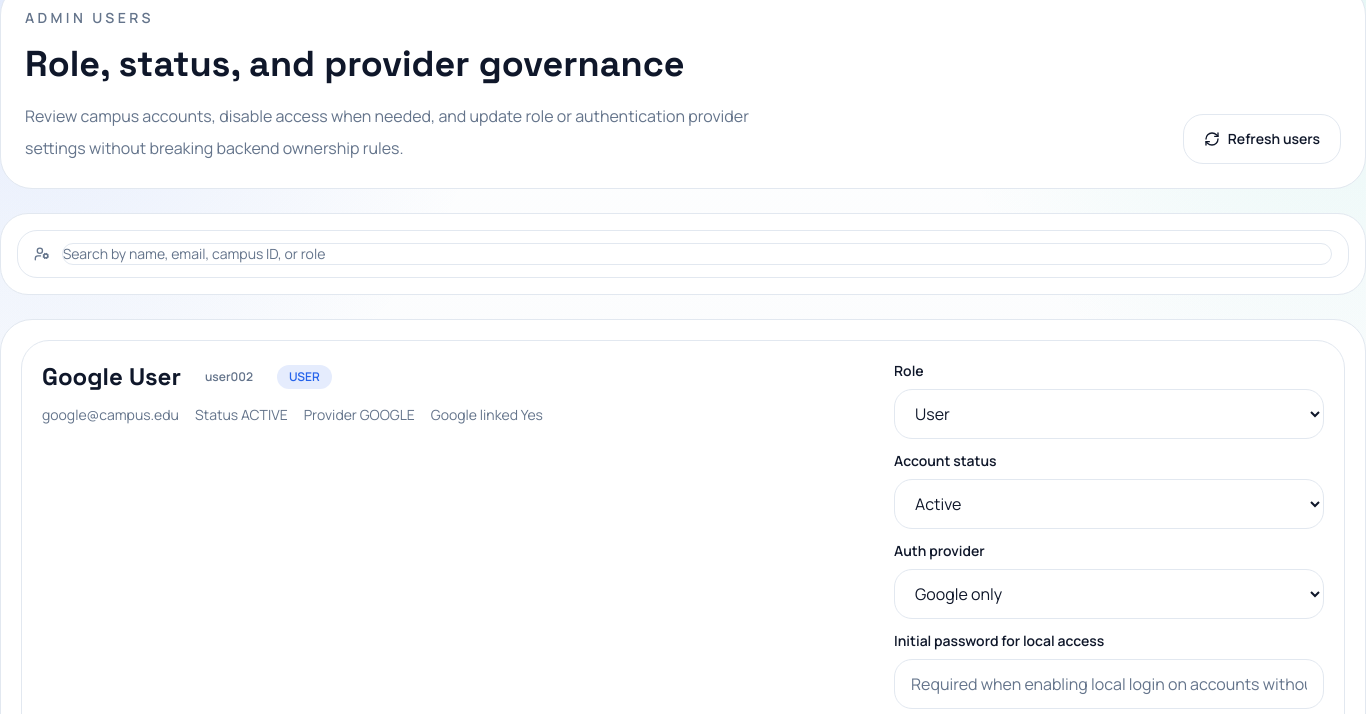
Test: admin users page › blocks enabling local login for a google-only account without a password
Check: the heading "Google User" is shown, box x1=42 y1=361 x2=181 y2=393
Select "Local + Google" in the dropdown labelled "Auth provider": coordinates (1109, 594) x1=894 y1=569 x2=1324 y2=619
(page scrolled)
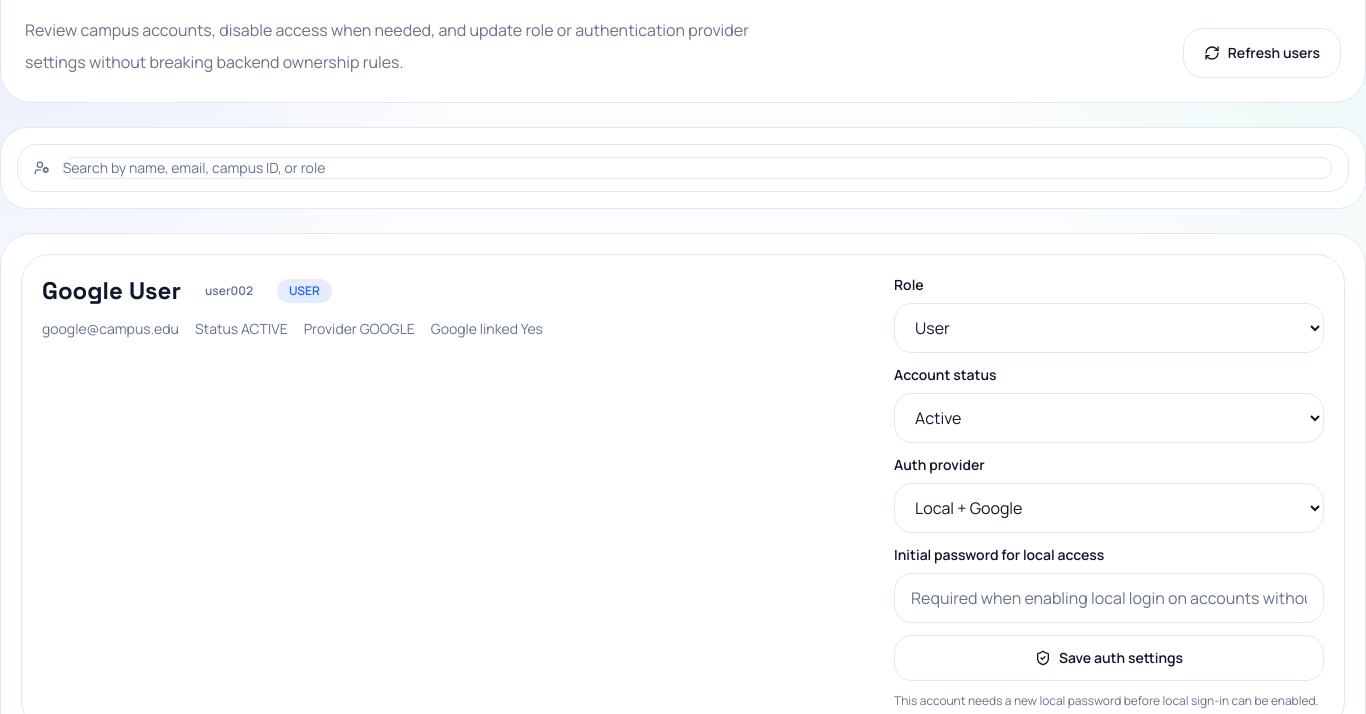
Click the button "Save auth settings": coordinates (1109, 658) x1=894 y1=635 x2=1324 y2=681
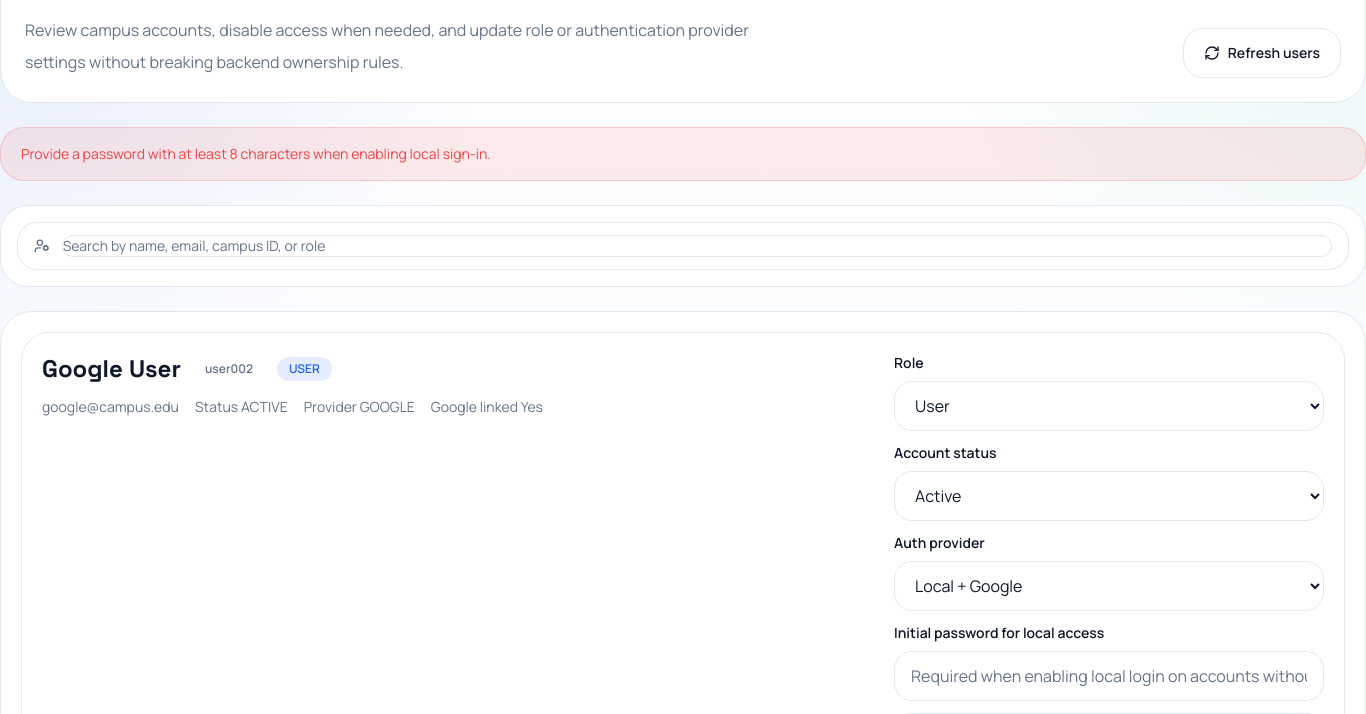
Check: the text "Provide a password with at least 8 characters when enabling local sign-in." is shown, box x1=0 y1=127 x2=1365 y2=181
